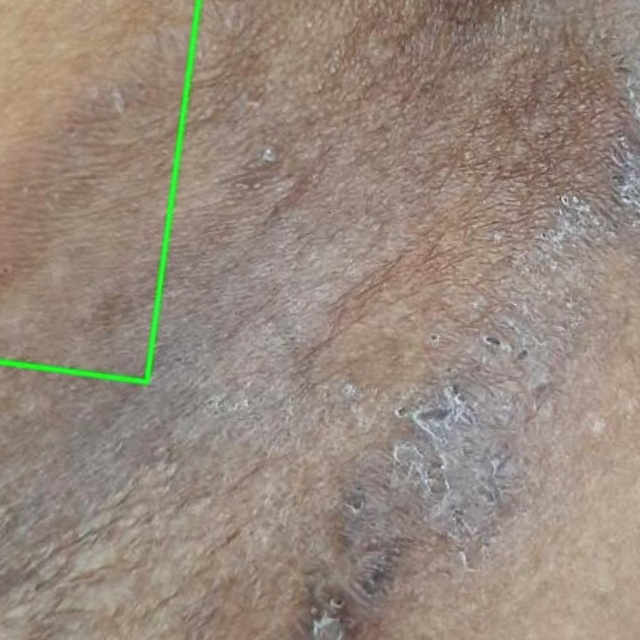Contact Dermatitis: (0, 0, 198, 381)
